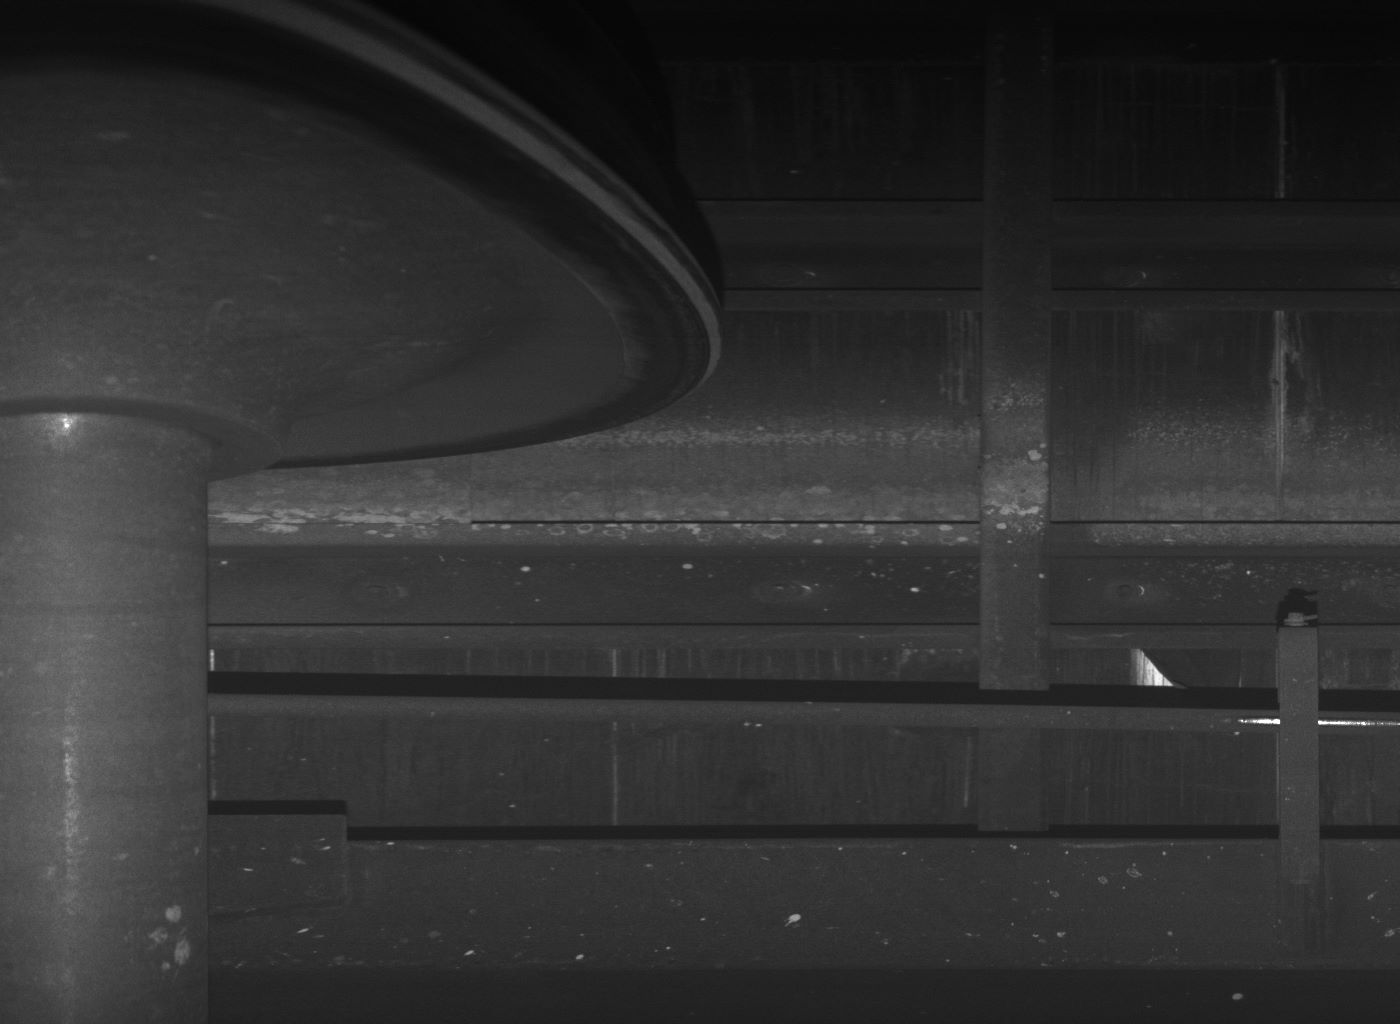normal: (1279, 607, 1326, 956)
